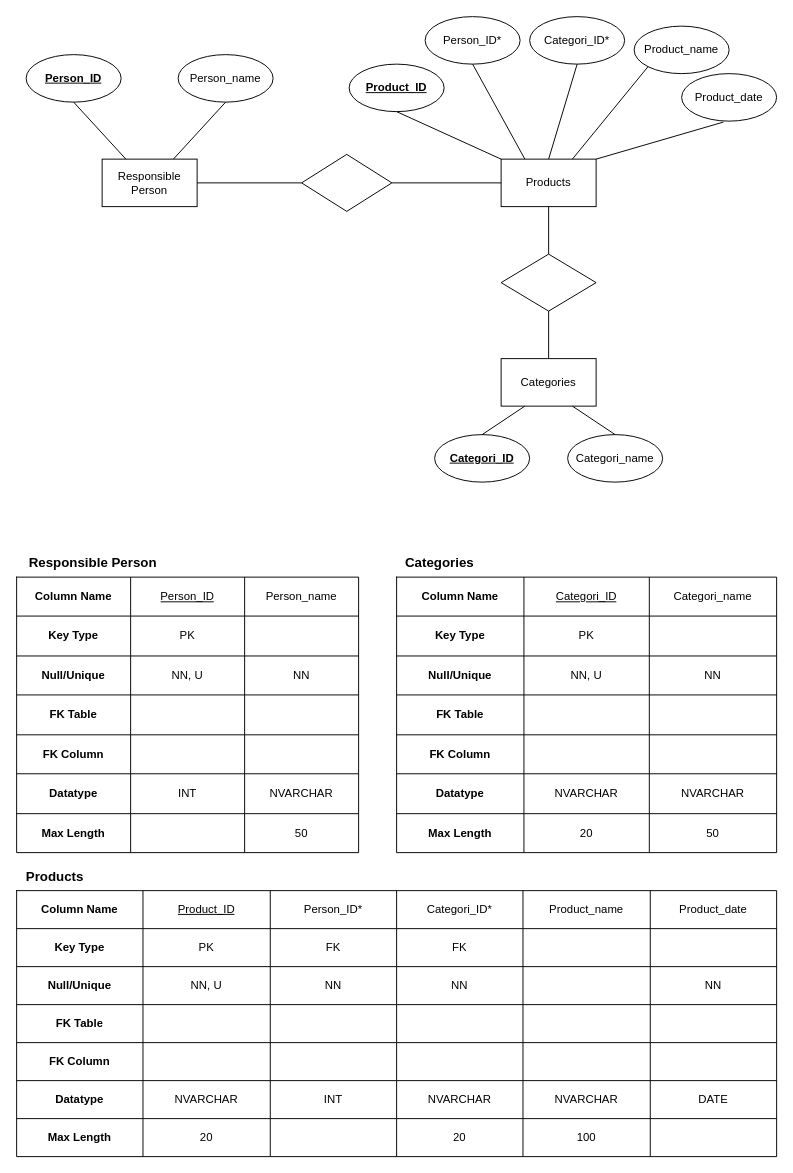
Image size: 793x1173. Some labels were removed from this diagram. Each missing label, with the centre of its shape:
Have: point 548,282
Responsible: point 346,182
